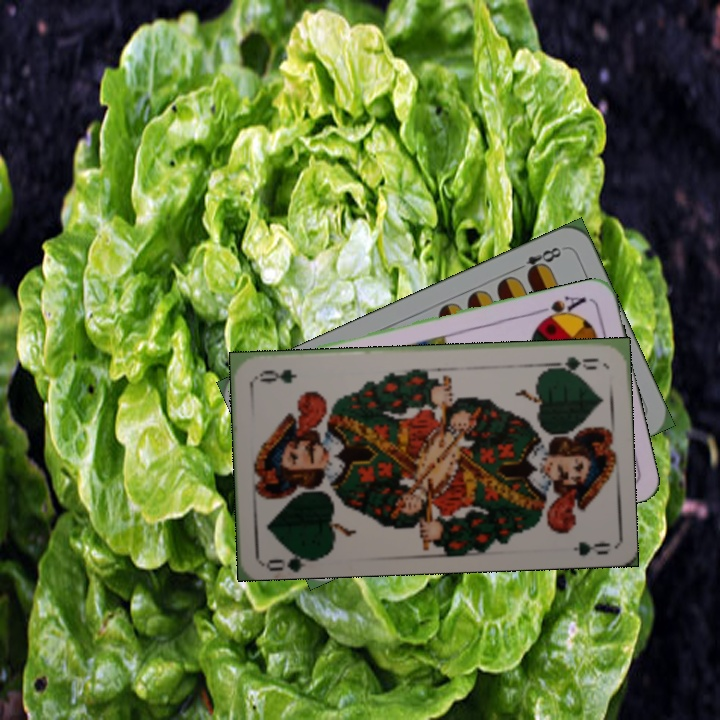E8: (511, 243, 564, 279)
GO: (262, 543, 321, 571), (545, 352, 601, 374)
SA: (532, 291, 589, 325)
